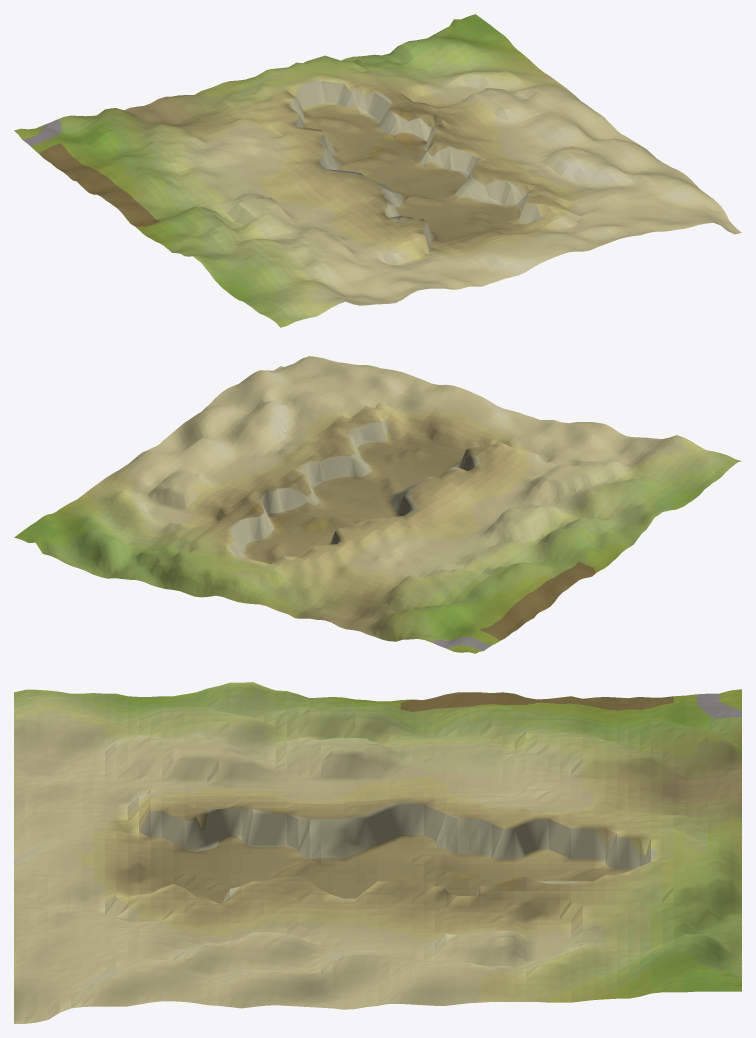
3 views of the same model, one above another, from view 1: azimuth 30°, elevation 25°; view 2: azimuth 150°, elevation 25°; view 3: azimuth 270°, elevation 25° (orthographic). The views are drawn at different scales.
Visible parts, largest first — view 1: model; view 2: model; view 3: model.
Part boxes in pixels (<box>): model: <box>14,14,741,327</box>; model: <box>14,356,741,653</box>; model: <box>14,682,741,1023</box>.
Size of the model in its own units: 64 by 3.81 by 64.
